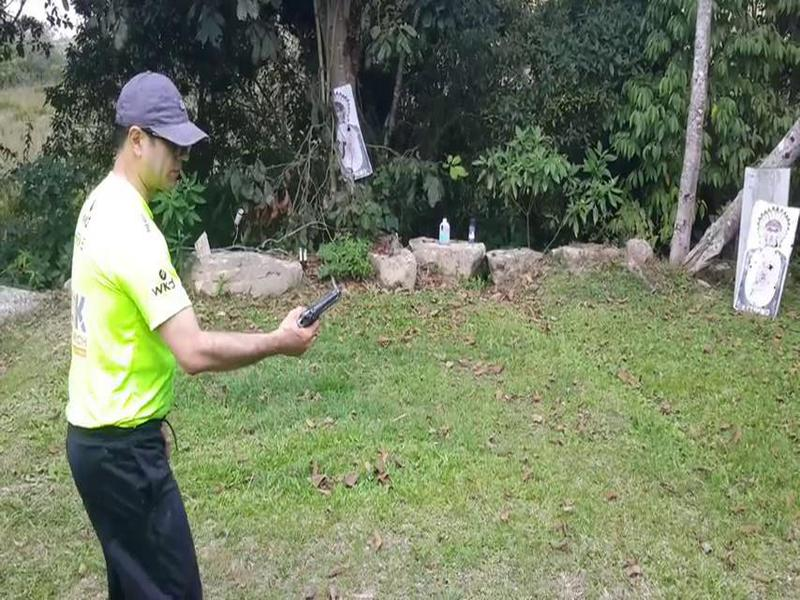Pistola: (287, 276, 348, 339)
